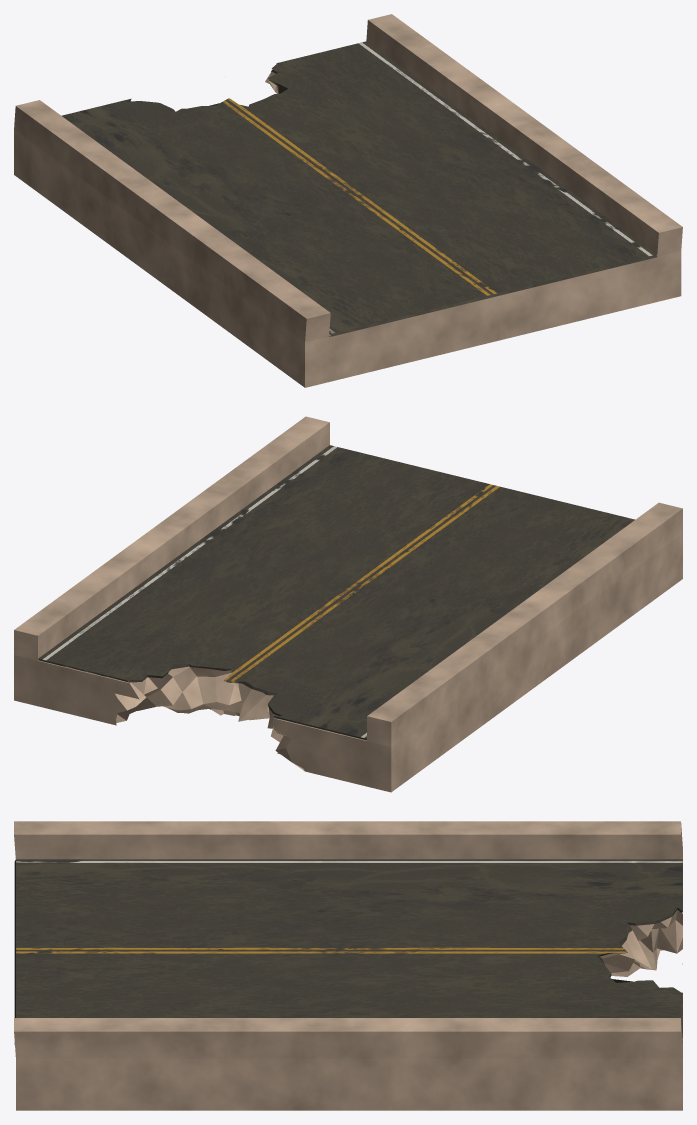
Rendered from Road_tile_Broken_front_Road.fbx.
3 renders of one model, top to bottom at view 1: azimuth 30°, elevation 25°; view 2: azimuth 150°, elevation 25°; view 3: azimuth 270°, elevation 25°, orthographic. The views are drawn at different scales.
Visible parts, largest first — view 1: Road.005, Road_Tile_Broken_front; view 2: Road.005, Road_Tile_Broken_front; view 3: Road.005, Road_Tile_Broken_front.
Boxes of the visible parts, box(x1,y1,x2,y2) form: Road.005: box(61, 41, 657, 336); Road_Tile_Broken_front: box(14, 14, 682, 387); Road.005: box(38, 445, 634, 740); Road_Tile_Broken_front: box(14, 416, 682, 792); Road.005: box(14, 859, 682, 1044); Road_Tile_Broken_front: box(14, 821, 682, 1110).
Bounding box in the file's own units: 394 × 69.41 × 528.
2 materials, 2 textured.
